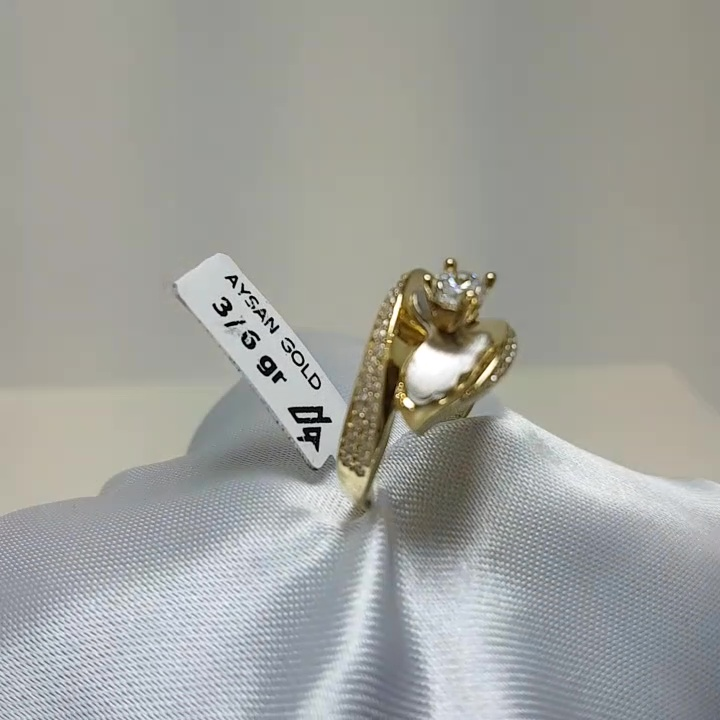Ring 6: (324, 247, 550, 513)
